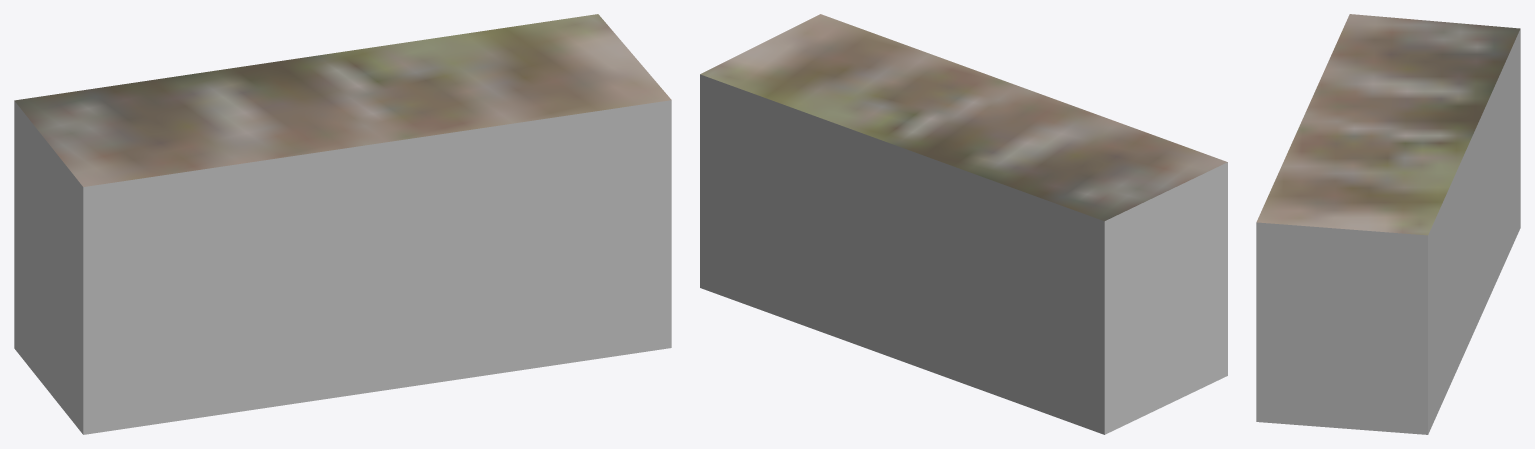
Rendered from DEBW_0010007THTl.gltf.
3 renders of one model, left to right at view 1: azimuth 30°, elevation 25°; view 2: azimuth 150°, elevation 25°; view 3: azimuth 270°, elevation 25°, orthographic. The views are drawn at different scales.
Visible parts, largest first — view 1: Z_UP; view 2: Z_UP; view 3: Z_UP.
Boxes of the visible parts, x1,y1,x2,y2 form: Z_UP: (14, 14, 671, 434); Z_UP: (700, 14, 1227, 434); Z_UP: (1256, 14, 1520, 434).
Size of the model in its own units: 5.95 by 2.5 by 3.
Materials: 2 (1 with a texture image).
